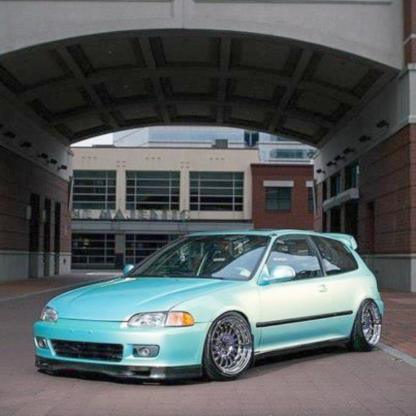Car: (29, 229, 392, 388)
